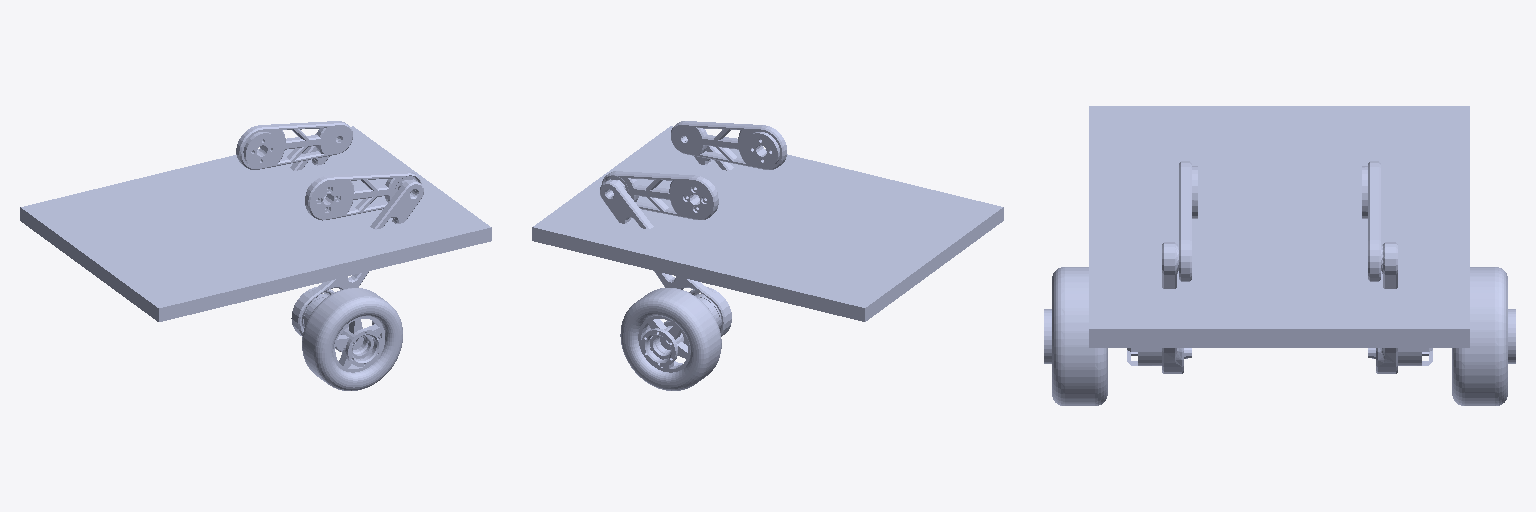
robot.urdf — sf:
<?xml version="1.0" encoding="utf-8"?>
<!-- This URDF was automatically created by SolidWorks to URDF Exporter! Originally created by Stephen Brawner (brawner@gmail.com) 
     Commit Version: 1.6.0-4-g7f85cfe  Build Version: 1.6.7995.38578
     For more information, please see http://wiki.ros.org/sw_urdf_exporter -->
<robot
  name="sf">
  <link
    name="base_link">
    <inertial>
      <origin
        xyz="0.0061304 0.0002476 -0.0093676"
        rpy="0 0 0" />
      <mass
        value="0.2660000" />  # 原版质量0.266
      <inertia
        ixx="0.0006309"
        ixy="0.0000006"
        ixz="-0.0000468"
        iyy="0.0003008"
        iyz="0.0000003"
        izz="0.0007489" />
      <!--<mass
        value="0.2660000" />
      <inertia
        ixx="0.001100"
        ixy="0.0000000"
        ixz="0.0000000"
        iyy="0.001400"
        iyz="0.0000000"
        izz="0.002400" />-->
      <!--<mass
        value="0.7280000" />  
      <inertia
        ixx="0.001727"    
        ixy="0.0000016"   
        ixz="-0.000128"   
        iyy="0.000823"    
        iyz="0.0000008"   
        izz="0.002050" />-->  
    </inertial>
    <visual>
      <!--<origin
        xyz="0.00 0 -0.00"
        rpy="0 0 0" />-->
      <origin
        xyz="0.01 0 -0.025"
        rpy="0 0 0" />
      <geometry>
        <!--<mesh
          filename="../meshes/base_link.STL" />-->
        <box size="0.25 0.18 0.01" />
      </geometry>
      <material
        name="">
        <color
          rgba="0.792156862745098 0.819607843137255 0.933333333333333 1" />
      </material>
    </visual>
    <collision>
      <!--<origin
        xyz="0.00 0 -0.00"
        rpy="0 0 0" />-->
      <origin
        xyz="0.01 0 -0.025"
        rpy="0 0 0" />
      <geometry>
        <!--<mesh
          filename="../meshes/base_link.STL" />-->
        <box size="0.25 0.18 0.01" />
      </geometry>
    </collision>
  </link>
  <link
    name="LT_link">
    <inertial>
      <origin
        xyz="0.0012701 0.0040620 -0.0190086"
        rpy="0 0 0" />
      <mass
        value="0.0080000" />
      <inertia
        ixx="0.0000041"
        ixy="0.0000000"
        ixz="0.0000002"
        iyy="0.0000046"
        iyz="0.0000001"
        izz="0.0000005" />
    </inertial>
    <visual>
      <origin
        xyz="0 0 0"
        rpy="0 0 0" />
      <geometry>
        <mesh
          filename="../meshes/LT_link.STL" />
      </geometry>
      <material
        name="">
        <color
          rgba="0.792156862745098 0.819607843137255 0.933333333333333 1" />
      </material>
    </visual>
    <collision>
      <origin
        xyz="0 0 0"
        rpy="0 0 0" />
      <geometry>
        <mesh
          filename="../meshes/LT_link.STL" />
      </geometry>
    </collision>
  </link>
  <joint
    name="LT_joint"
    type="revolute">
    <origin
      xyz="0.037193 0.04014 0.00555"
      rpy="0 -1.3914 0" />
    <parent
      link="base_link" />
    <child
      link="LT_link" />
    <axis
      xyz="0 -1 0" />
    <limit
      lower="-1.3479"
      upper="0.3363"
      effort="0.5"
      velocity="20" />
    <dynamics
      friction="0.00"
      damping="0.00" />
  </joint>
  <link
    name="LC_link">
    <inertial>
      <origin
        xyz="0.0013809 0.0047027 -0.0690315"
        rpy="0 0 0" />
      <mass
        value="0.0166292" />
      <inertia
        ixx="1.92606315320937E-05"
        ixy="-8.82655659688194E-09"
        ixz="-3.55356649539172E-07"
        iyy="1.99807316204063E-05"
        iyz="4.41228359669666E-07"
        izz="1.55379596081475E-06" />
    </inertial>
    <visual>
      <origin
        xyz="0 0 0"
        rpy="0 0 0" />
      <geometry>
        <mesh
          filename="../meshes/LC_link.STL" />
      </geometry>
      <material
        name="">
        <color
          rgba="0.792156862745098 0.819607843137255 0.933333333333333 1" />
      </material>
    </visual>
    <collision>
      <origin
        xyz="0 0 0"
        rpy="0 0 0" />
      <geometry>
        <mesh
          filename="../meshes/LC_link.STL" />
      </geometry>
    </collision>
  </link>
  <joint
    name="LC_joint"
    type="revolute">
    <origin
      xyz="0.00400624584257155 0.00825 -0.0599599974003271"
      rpy="3.14159265358979 0.970968251102385 3.14159265358979" />
    <parent
      link="LT_link" />
    <child
      link="LC_link" />
    <axis
      xyz="0 -1 0" />
    <limit
      lower="-1.0"
      upper="1.25"
      effort="0.5"
      velocity="20" />
    <dynamics
      friction="0.00"
      damping="0.00" />
  </joint>
  <link
    name="LW_link">
    <inertial>
      <origin
        xyz="0.0000000 0.0083246 0.0000000"
        rpy="0 0 0" />
      <mass
        value="0.0559681585451639" />
      <inertia
        ixx="0.0000121"
        ixy="0.0000000"
        ixz="0.0000000"
        iyy="0.0000209"
        iyz="0.0000000"
        izz="0.0000121" />
    </inertial>
    <visual>
      <origin
        xyz="0 0.015 0"
        rpy="0 0 0" />
      <geometry>
        <mesh
          filename="../meshes/LW_link.STL" />
      </geometry>
      <!--<geometry>
        <cylinder length="0.03" radius="0.03"/>
      </geometry>-->
      <material
        name="">
        <color
          rgba="0.792156862745098 0.819607843137255 0.933333333333333 1" />
      </material>
    </visual>
    <collision>
      <origin
        xyz="0 0.015 0"
        rpy="0 0 0" />
      <geometry>
        <mesh
          filename="../meshes/LW_link.STL" />
      </geometry>
      <!--<geometry>
        <cylinder length="0.03" radius="0.03"/>
      </geometry>-->
    </collision>
  </link>
  <joint
    name="LW_joint"
    type="revolute">
    <origin
      xyz="0.00200000000000076 0.024 -0.0999799979995941"
      rpy="0 -0.779219558190924 0" />
    <parent
      link="LC_link" />
    <child
      link="LW_link" />
    <axis
      xyz="0 1 0" />
    <limit
      
      effort="0.5"
      velocity="100" />
  </joint>
  <link
    name="RT_link">
    <inertial>
      <origin
        xyz="0.00127013 -0.0040620 -0.0190086"
        rpy="0 0 0" />
      <mass
        value="0.0080000" />
      <inertia
        ixx="0.0000041"
        ixy="0.0000000"
        ixz="0.0000002"
        iyy="0.0000046"
        iyz="0.0000001"
        izz="0.0000005" />
    </inertial>
    <visual>
      <origin
        xyz="0 0 0"
        rpy="0 0 0" />
      <geometry>
        <mesh
          filename="../meshes/RT_link.STL" />
      </geometry>
      <material
        name="">
        <color
          rgba="0.792156862745098 0.819607843137255 0.933333333333333 1" />
      </material>
    </visual>
    <collision>
      <origin
        xyz="0 0 0"
        rpy="0 0 0" />
      <geometry>
        <mesh
          filename="../meshes/RT_link.STL" />
      </geometry>
    </collision>
  </link>
  <joint
    name="RT_joint"
    type="revolute">
    <origin
      xyz="0.037193 -0.03976 0.00555"
      rpy="0 -1.3914 0" />
    <parent
      link="base_link" />
    <child
      link="RT_link" />
    <axis
      xyz="0 1 0" />
    <limit
      lower="-0.3363"
      upper="1.3479"
      effort="0.5"
      velocity="20" />
    <dynamics
      friction="0.00"
      damping="0.00" />
  </joint>
  <link
    name="RC_link">
    <inertial>
      <origin
        xyz="-0.0013809 -0.0047027 -0.0690315"
        rpy="0 0 0" />
      <mass
        value="0.0166292" />
      <inertia
        ixx="0.0000240"
        ixy="0.0000000"
        ixz="0.0000004"
        iyy="0.0000245"
        iyz="-0.00000006"
        izz="0.0000016" />
    </inertial>
    <visual>
      <origin
        xyz="0 0 0"
        rpy="0 0 0" />
      <geometry>
        <mesh
          filename="../meshes/RC_link.STL" />
      </geometry>
      <material
        name="">
        <color
          rgba="0.792156862745098 0.819607843137255 0.933333333333333 1" />
      </material>
    </visual>
    <collision>
      <origin
        xyz="0 0 0"
        rpy="0 0 0" />
      <geometry>
        <mesh
          filename="../meshes/RC_link.STL" />
      </geometry>
    </collision>
  </link>
  <joint
    name="RC_joint"
    type="revolute">
    <origin
      xyz="0.0040062458425682 -0.00825000000001 -0.0599599974003474"
      rpy="-3.14159265358951 1.01097091824902 -3.14159265358956" />
    <parent
      link="RT_link" />
    <child
      link="RC_link" />
    <axis
      xyz="0 1 0" />
    <limit
      lower="-1.25"
      upper="1.0"
      effort="0.5"
      velocity="20" />
    <dynamics
      friction="0.00"
      damping="0.00" />
  </joint>
  <link
    name="RW_link">
    <inertial>
      <origin
        xyz="0.0000000 -0.0083246 0.0000000"
        rpy="1.5708 0 0" />
      <mass
        value="0.0559681585451639" />
      <inertia
        ixx="0.0000121"
        ixy="0.0000000"
        ixz="0.0000000"
        iyy="0.0000209"
        iyz="0.0000000"
        izz="0.0000121" />
    </inertial>
    <visual>
      <origin
        xyz="0 -0.015 0"
        rpy="0 0 0" />
      <geometry>
        <mesh
          filename="../meshes/RW_link.STL" />
      </geometry>
      <!--<geometry>
        <cylinder length="0.03" radius="0.03"/>
      </geometry>-->
      <material
        name="">
        <color
          rgba="0.792156862745098 0.819607843137255 0.933333333333333 1" />
      </material>
    </visual>
    <collision>
      <origin
        xyz="0 -0.015 0"
        rpy="0 0 0" />
      <geometry>
        <mesh
          filename="../meshes/RW_link.STL" />
      </geometry>
      <!--<geometry>
        <cylinder length="0.03" radius="0.03"/>
      </geometry>-->
    </collision>
  </link>
  <joint
    name="RW_joint"
    type="revolute">
    <origin
      xyz="-0.00199999999999527 -0.0240000000000082 -0.0999799979995988"
      rpy="0 -0.739216891044192 0" />
    <parent
      link="RC_link" />
    <child
      link="RW_link" />
    <axis
      xyz="0 -1 0" />
    <limit
      
      effort="0.5"
      velocity="100" />
  </joint>
</robot>

--- What the picture shows (computed from the rendered views, not written in the file) ---
3 views of the same robot in one strip: view 1: azimuth 30°, elevation 25°; view 2: azimuth 150°, elevation 25°; view 3: azimuth 270°, elevation 25° (orthographic).
Robot: sf — 7 links, 6 joints (6 revolute); root link base_link; default pose: every joint at zero.
Visible links, largest first — view 1: base_link, RW_link, LT_link, RT_link, RC_link; view 2: base_link, LW_link, RT_link, LT_link, LC_link; view 3: base_link, LW_link, RW_link, LC_link, RC_link, LT_link, RT_link.
Boxes of the visible links, x1,y1,x2,y2 form: base_link: [20, 126, 491, 321]; RW_link: [302, 288, 402, 390]; LT_link: [236, 121, 352, 169]; RT_link: [305, 171, 421, 220]; RC_link: [291, 179, 423, 336]; base_link: [532, 126, 1003, 321]; LW_link: [620, 288, 721, 390]; RT_link: [671, 121, 786, 169]; LT_link: [602, 171, 718, 219]; LC_link: [600, 179, 731, 336]; base_link: [1089, 106, 1469, 347]; LW_link: [1452, 267, 1515, 405]; RW_link: [1044, 267, 1107, 405]; LC_link: [1368, 242, 1432, 373]; RC_link: [1127, 242, 1191, 373]; LT_link: [1362, 161, 1380, 281]; RT_link: [1179, 161, 1197, 281].
Bounding box of the posed robot: 0.25 × 0.2226 × 0.1273 m (x, y, z).
6 mesh visuals loaded from 6 distinct referenced files (6 binary STL).
